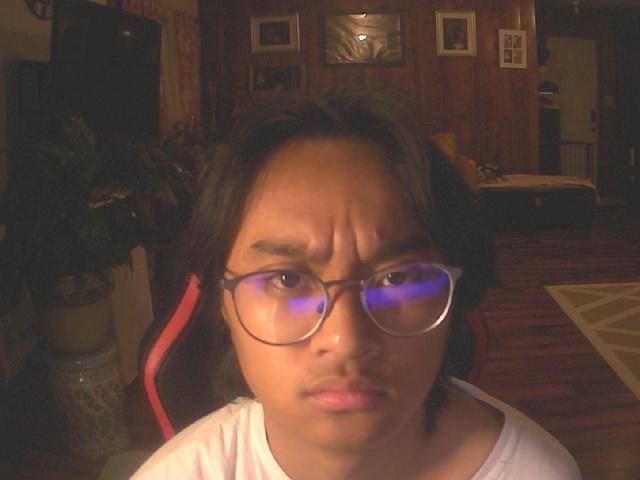anger: (179, 81, 496, 451)
